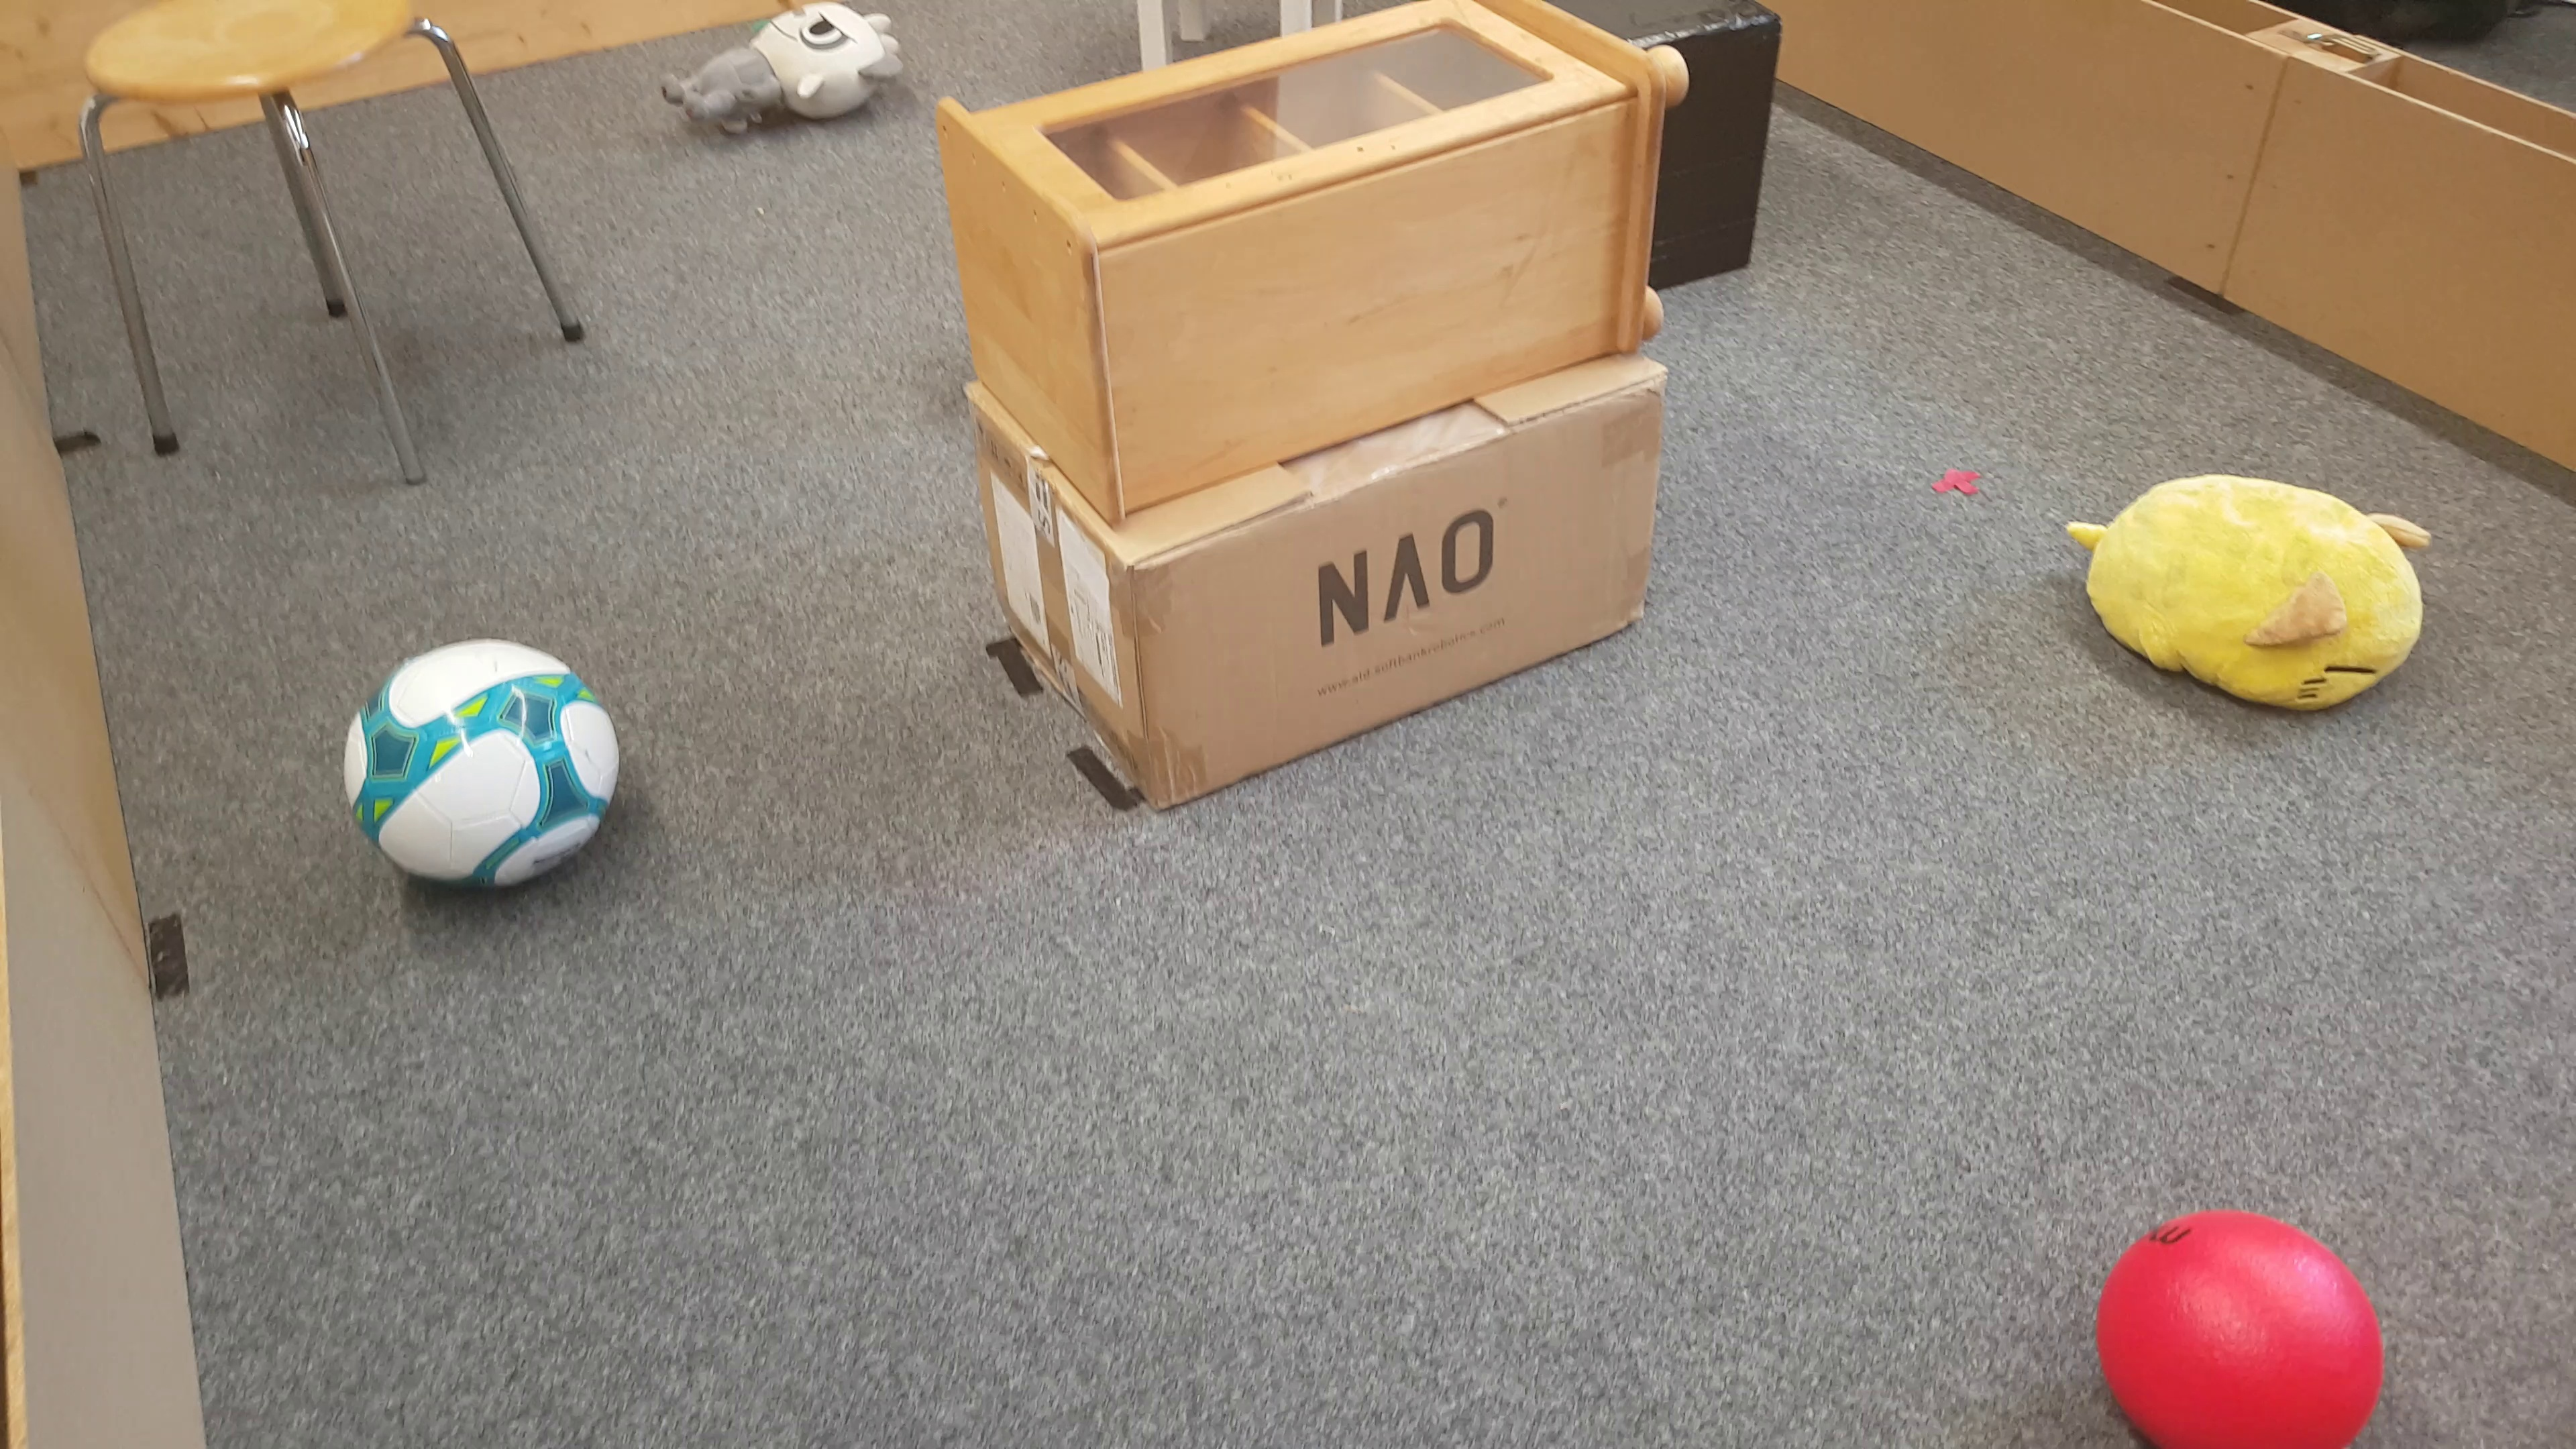grasp: (2068, 469, 2427, 717), (669, 11, 901, 147)
kick: (2098, 1203, 2387, 1449), (345, 646, 621, 885)
push: (1691, 5, 1787, 274)
